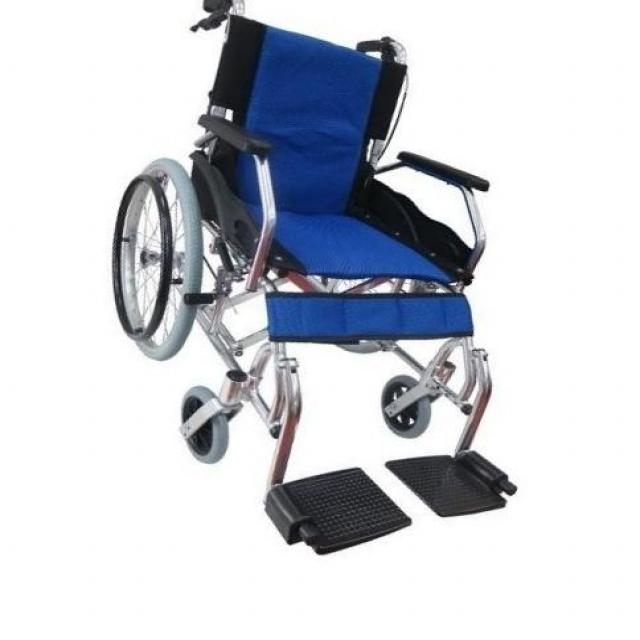wheelchair: (99, 0, 544, 565)
